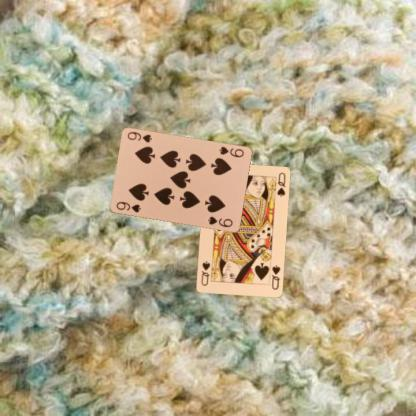9s: (113, 199, 142, 214), (217, 144, 245, 159)
Qs: (270, 262, 282, 291)
